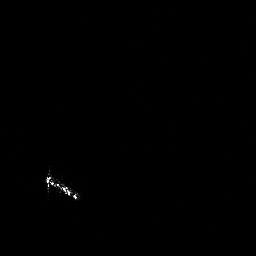ship: (40, 166, 84, 202)
